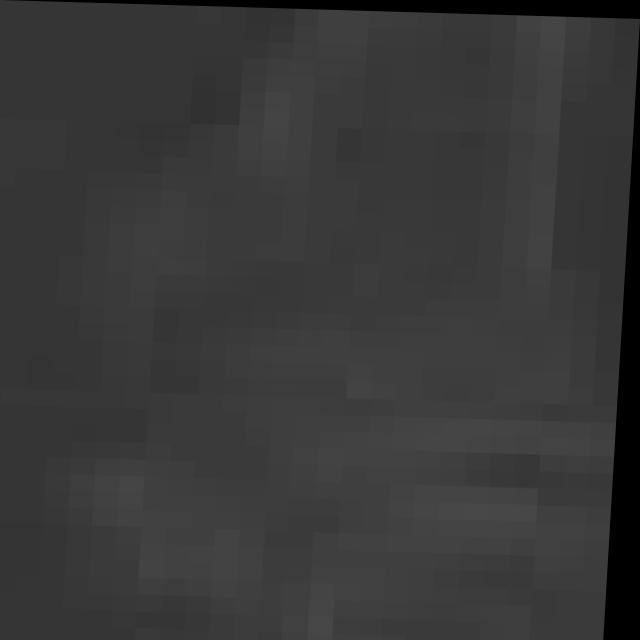fracture: (0, 9, 640, 640)
